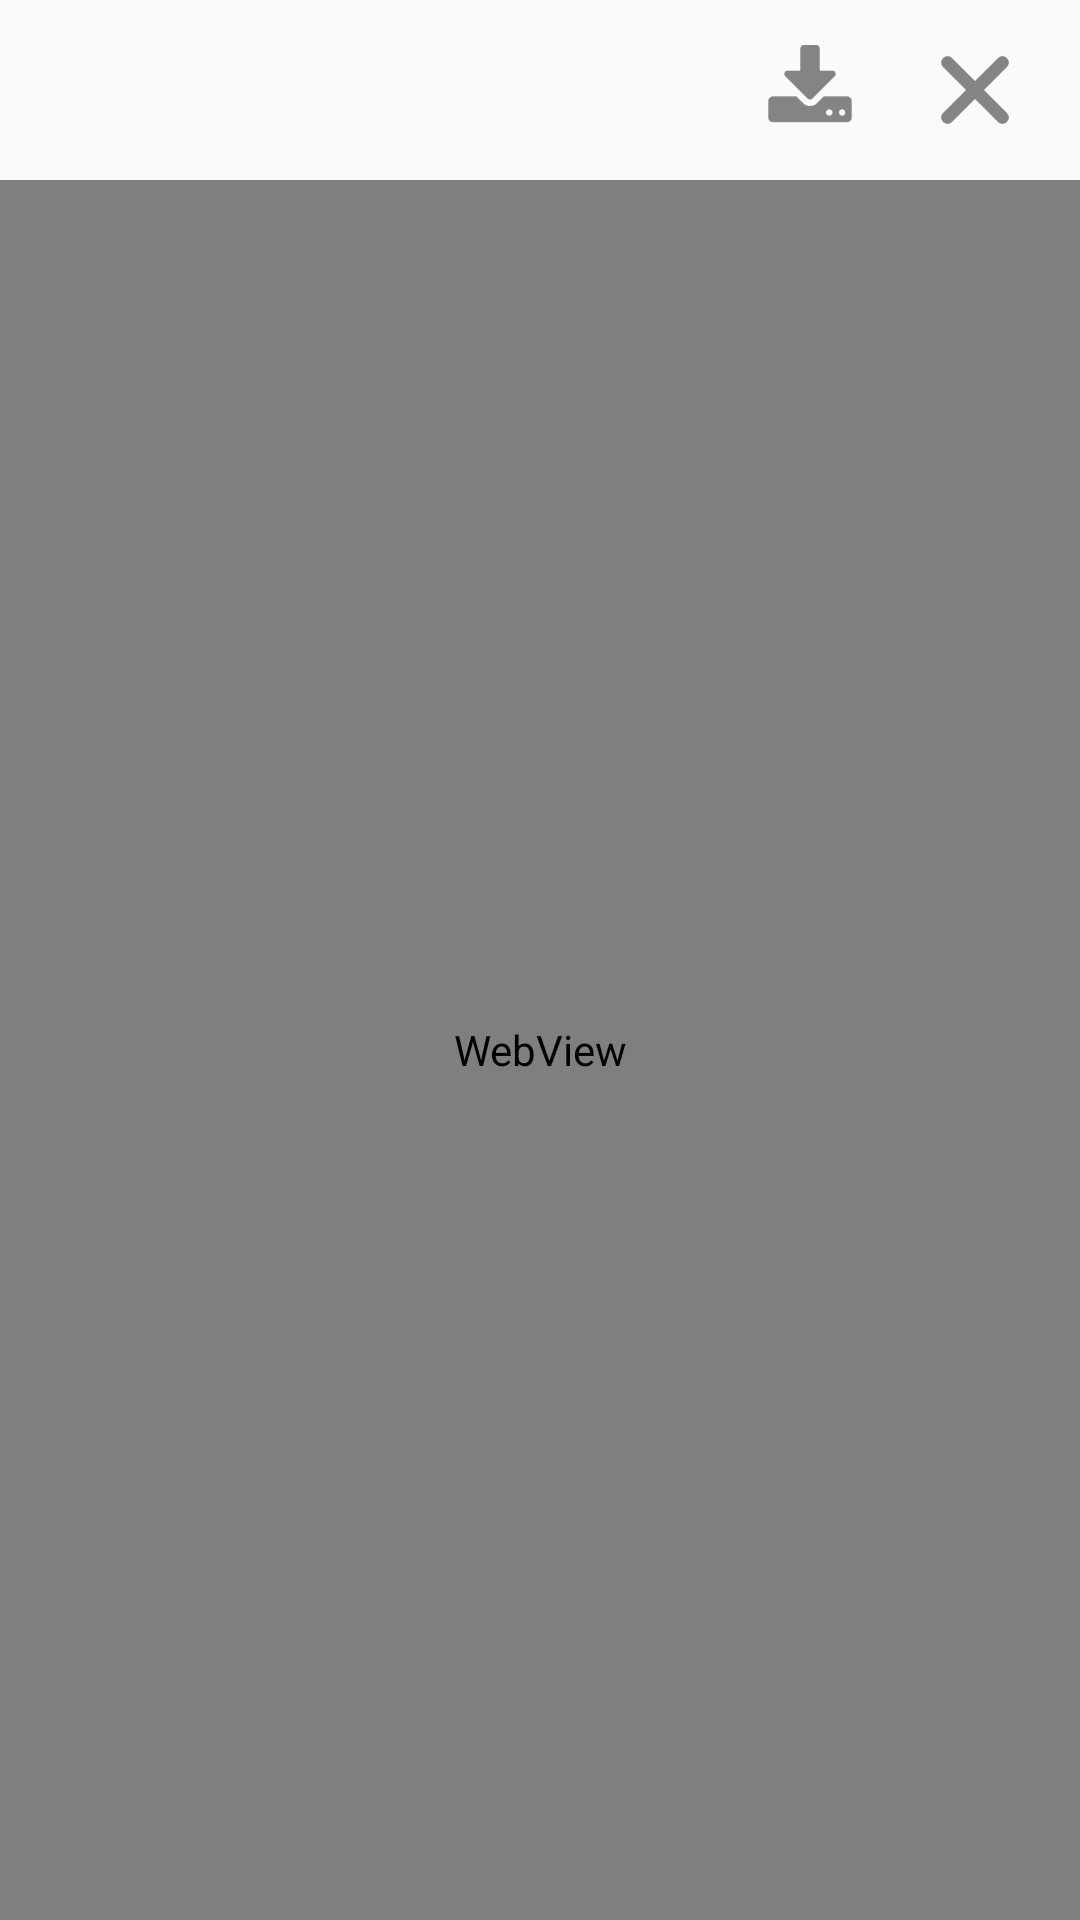

Icon click points for this 1080px x 1920px phone screenshot, format [x,y]:
close: [975,90]
download: [810,83]
